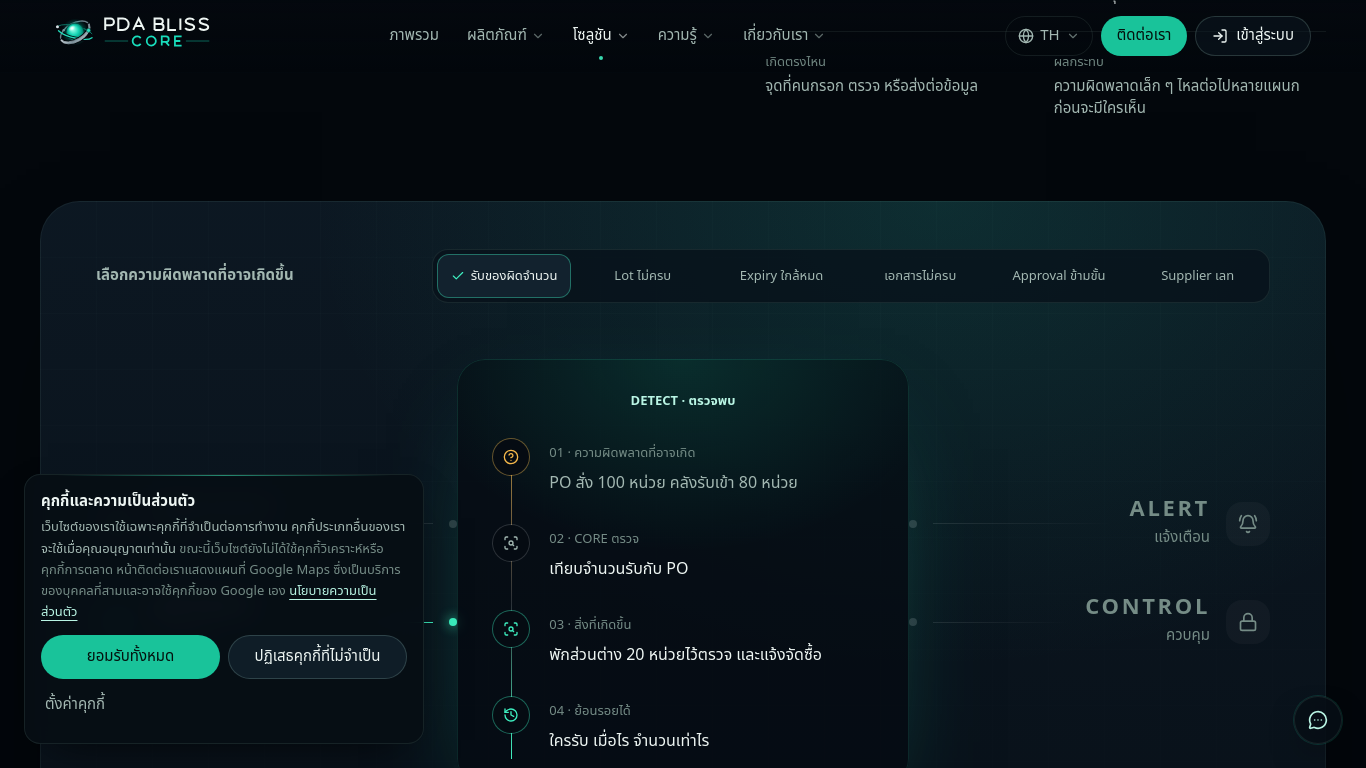
Test: /solutions page › walks a mistake through CORE’s checks
This screenshot has width=1366, height=768.
(page scrolled)
expect the element that starts with "DETECT" is shown: met, box [630,391,678,411]
Click the radio button labelled "Lot ไม่ครบ".
click(643, 276)  # box [575,254,710,298]
(page scrolled)
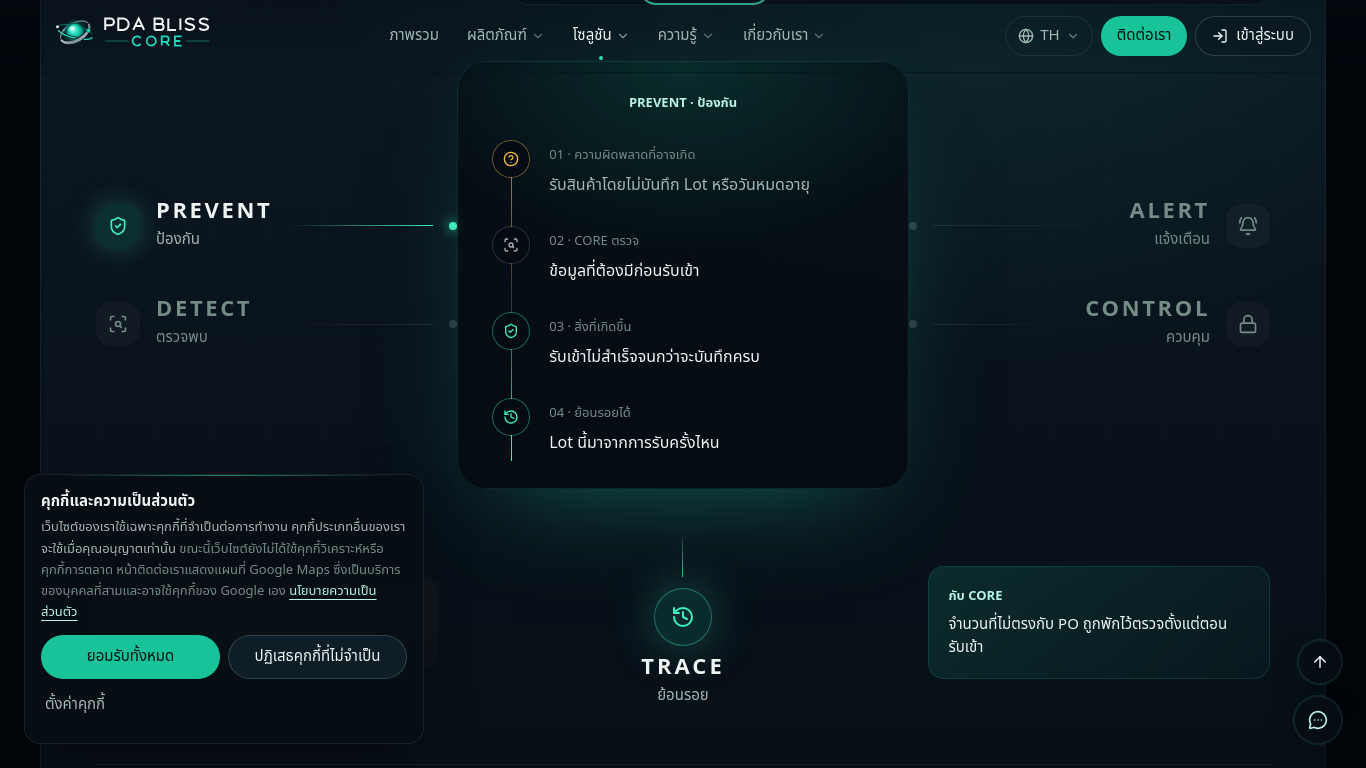
expect the text "PREVENT" is shown: met, box [629,93,687,113]
